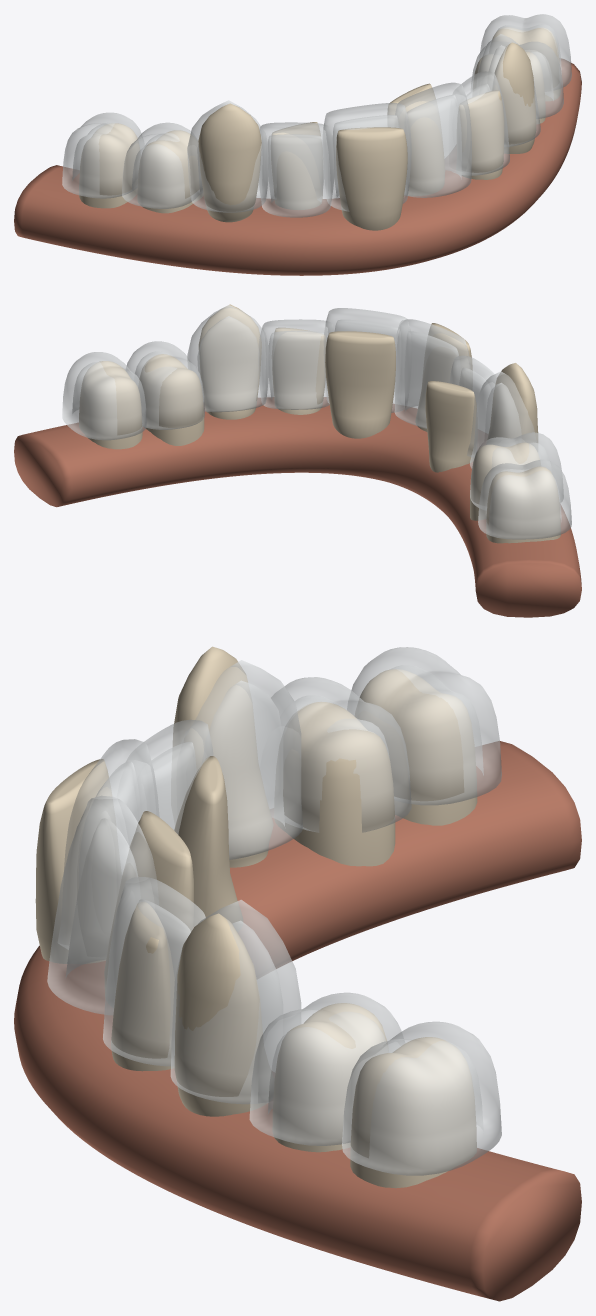
The model's file is aligner.glb.
3 views of the same model, one above another, from view 1: azimuth 30°, elevation 25°; view 2: azimuth 150°, elevation 25°; view 3: azimuth 270°, elevation 25° (orthographic). The views are drawn at different scales.
Parts seen in each view (by area): view 1: arch, tray; view 2: arch, tray; view 3: arch, tray.
Part boxes in pixels (x1,y1,x2,y2): arch: (14,27,581,275); tray: (62,14,571,217); arch: (14,304,581,617); tray: (62,305,571,539); arch: (14,646,581,1301); tray: (47,647,501,1175).
Bounding box in the file's own units: 2.96 × 0.8232 × 1.42.
